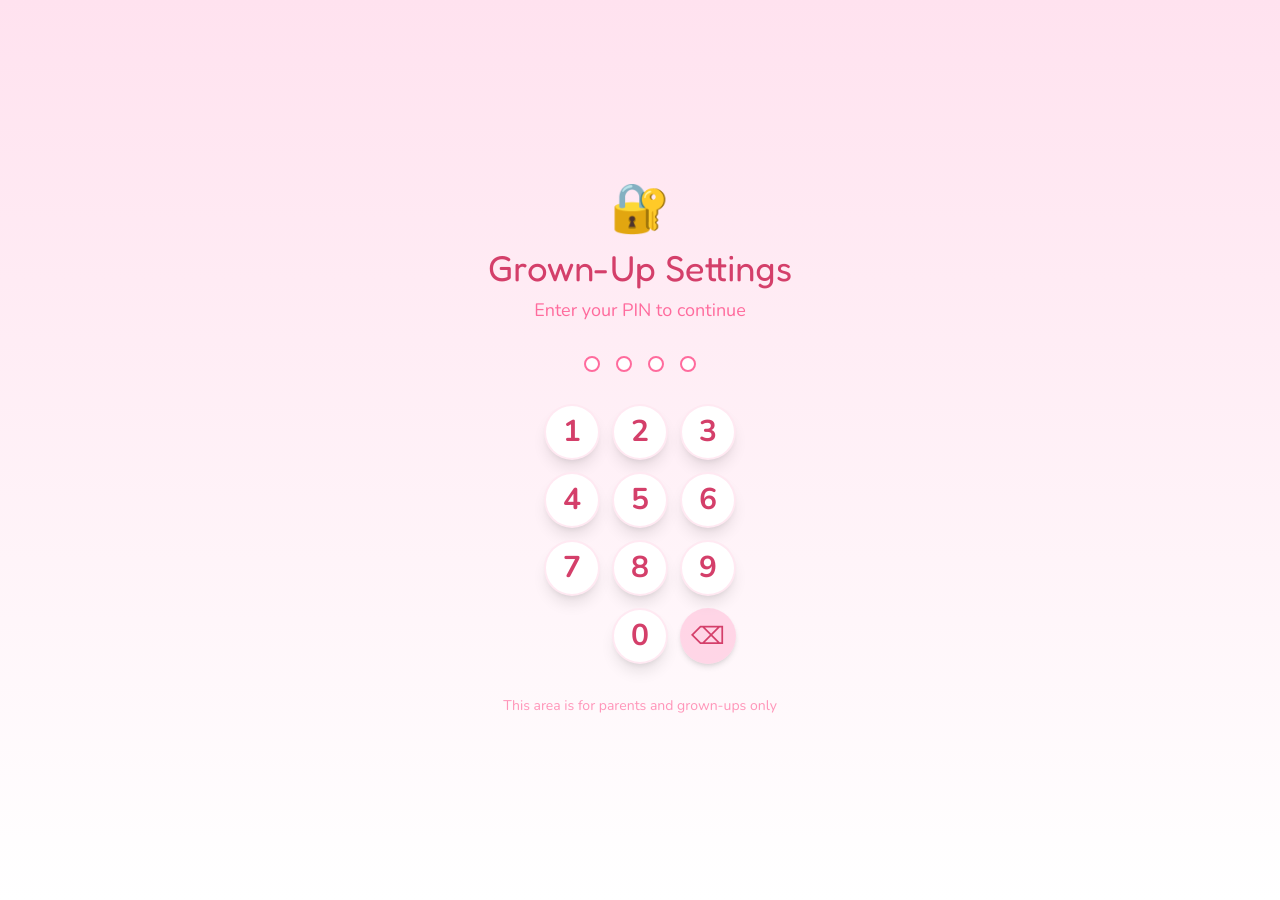
PinGate Component › fills dots as digits are entered
Click the button "1" at (572, 432), box [544,404,600,460]
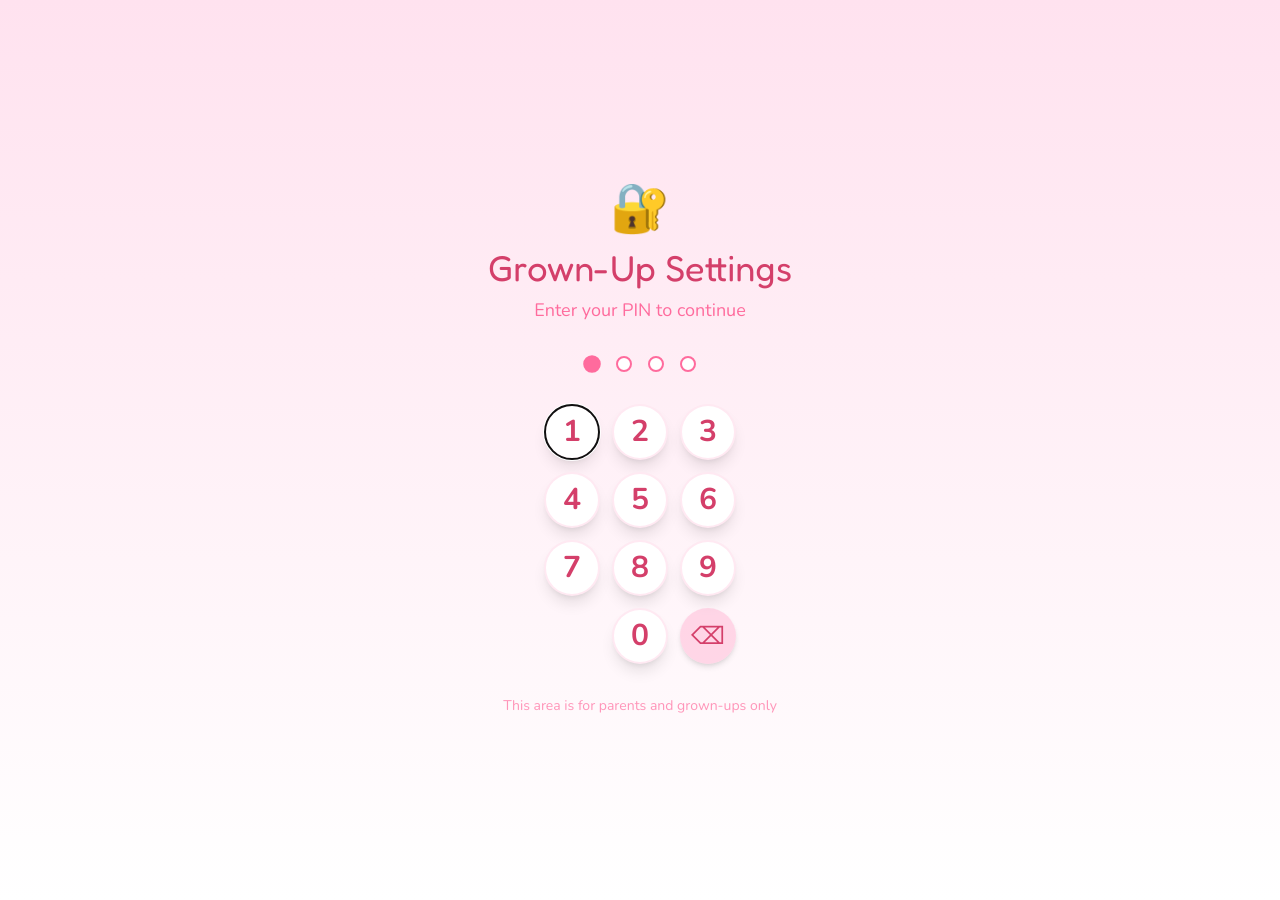
Now the number of elements with test id "pin-dot-filled" is 1, box [583,355,601,373]
